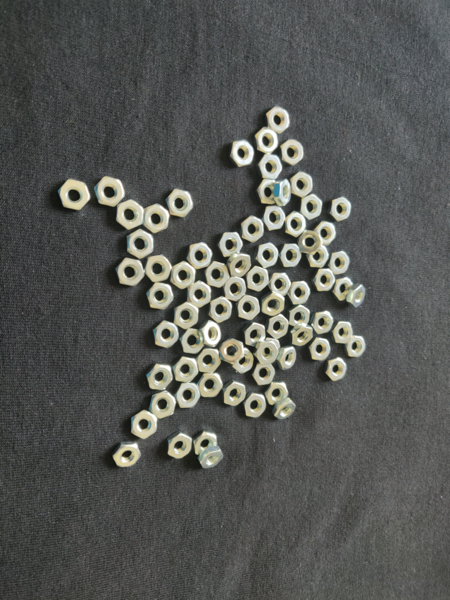nut: (57, 179, 90, 212), (114, 257, 146, 288), (114, 200, 146, 231), (164, 187, 194, 220), (95, 175, 125, 208), (111, 441, 142, 470), (126, 229, 154, 260), (145, 282, 175, 310), (129, 411, 158, 438), (153, 320, 179, 350), (148, 362, 174, 392), (170, 262, 197, 290), (184, 281, 212, 308), (280, 138, 306, 167), (240, 215, 266, 243), (188, 242, 214, 270), (146, 255, 172, 283), (143, 205, 169, 233), (173, 302, 199, 330), (205, 261, 231, 289), (265, 106, 290, 135), (231, 139, 256, 168), (167, 432, 193, 459), (256, 155, 283, 181), (192, 430, 218, 457), (150, 392, 176, 419), (208, 296, 233, 324), (237, 295, 262, 323), (177, 382, 202, 410), (195, 347, 220, 375), (253, 128, 279, 154), (297, 231, 323, 257), (218, 231, 243, 258), (223, 381, 248, 407), (252, 361, 277, 387), (255, 243, 281, 268), (310, 310, 335, 336), (179, 329, 204, 354), (174, 358, 199, 383), (246, 267, 270, 293), (266, 381, 290, 407), (329, 250, 352, 277), (196, 447, 224, 469), (264, 204, 286, 232), (221, 339, 244, 365), (227, 253, 251, 277), (326, 358, 349, 383), (288, 305, 311, 330), (270, 273, 293, 298), (330, 197, 353, 222), (291, 173, 314, 198), (280, 243, 302, 269), (285, 212, 307, 238), (242, 324, 266, 347), (290, 280, 312, 305), (315, 221, 337, 246), (262, 293, 284, 318), (308, 338, 331, 361), (301, 195, 323, 219), (314, 269, 336, 293), (244, 394, 266, 418), (256, 341, 280, 363), (268, 314, 289, 339), (291, 325, 314, 347), (273, 398, 296, 420), (234, 350, 255, 374), (334, 277, 354, 302), (203, 321, 222, 347), (345, 336, 367, 358), (224, 277, 246, 299), (308, 245, 329, 268), (274, 178, 291, 206), (347, 283, 365, 309), (278, 346, 296, 372), (334, 321, 353, 345), (257, 180, 275, 205)
